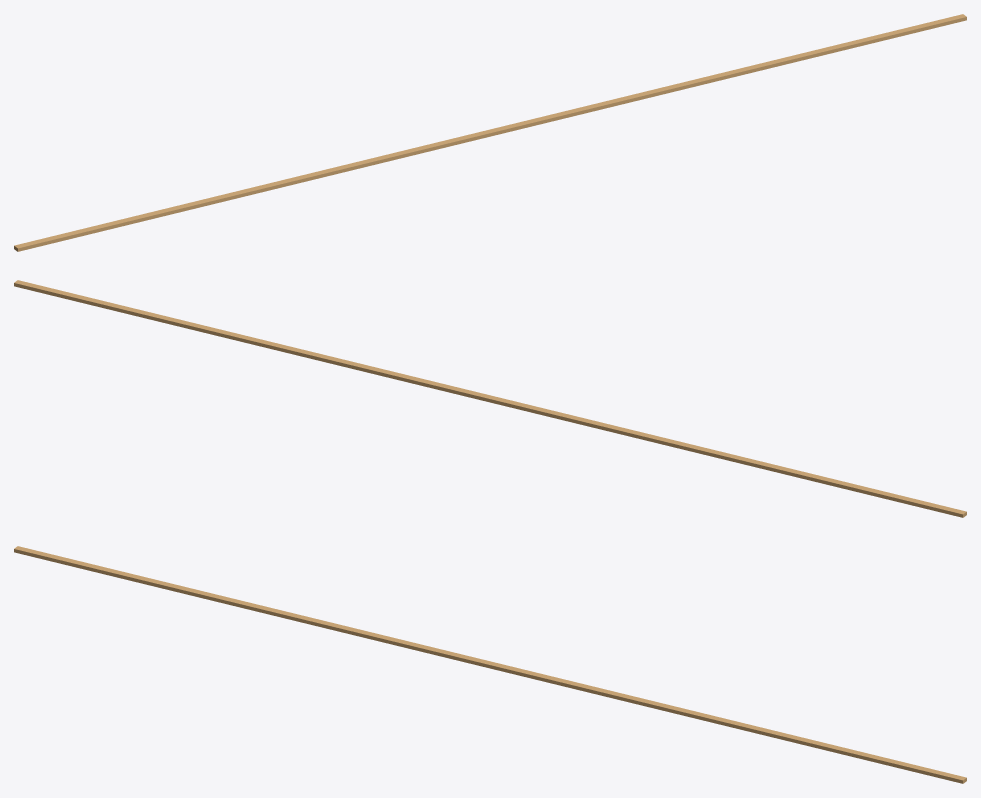
File: board.glb
3 renders of one model, top to bottom at view 1: azimuth 30°, elevation 25°; view 2: azimuth 150°, elevation 25°; view 3: azimuth 330°, elevation 25°, orthographic.
Visible parts, largest first — view 1: Unified_Net_1_Island_0; view 2: Unified_Net_1_Island_0; view 3: Unified_Net_1_Island_0.
Part boxes in pixels (x1,y1,x2,y2): Unified_Net_1_Island_0: [14, 14, 966, 251]; Unified_Net_1_Island_0: [14, 280, 966, 517]; Unified_Net_1_Island_0: [14, 546, 966, 783].
Bounding box in the file's own units: 0.0141 × 4.91e-05 × 0.0001.
